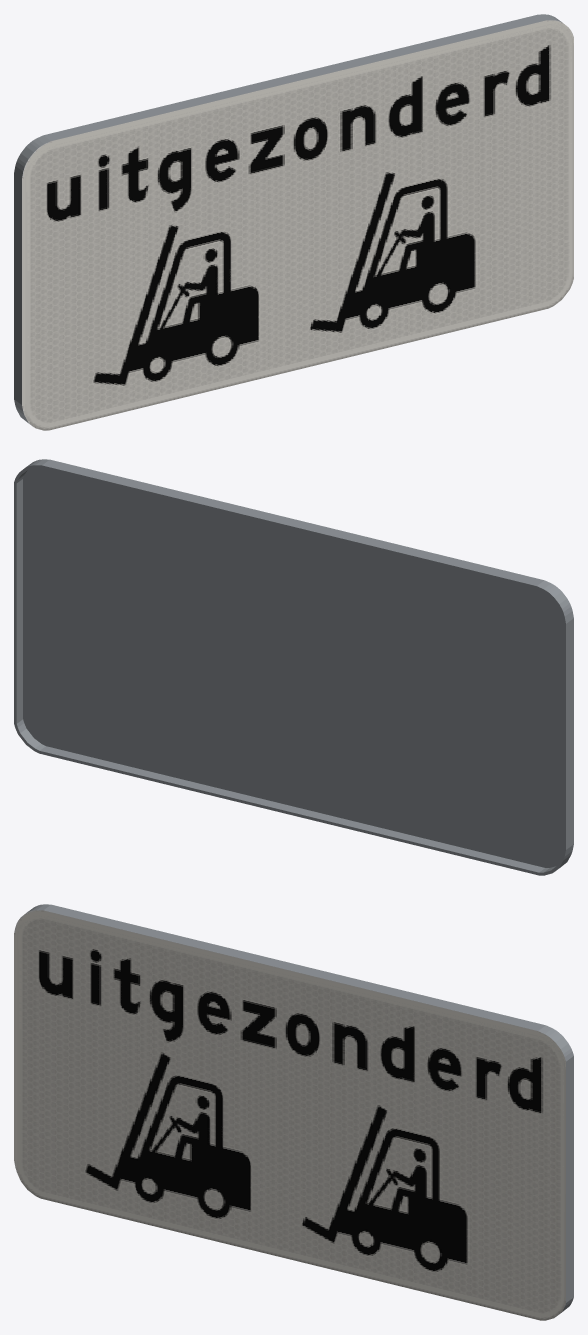
3 views of the same model, one above another, from view 1: azimuth 30°, elevation 25°; view 2: azimuth 150°, elevation 25°; view 3: azimuth 330°, elevation 25° (orthographic).
Parts seen in each view (by area): view 1: cat_0f9d58e4e498a3bd; view 2: cat_0f9d58e4e498a3bd; view 3: cat_0f9d58e4e498a3bd.
Boxes of the visible parts, x1=… form: cat_0f9d58e4e498a3bd: x1=14, y1=14, x2=573, y2=430; cat_0f9d58e4e498a3bd: x1=14, y1=459, x2=573, y2=875; cat_0f9d58e4e498a3bd: x1=14, y1=904, x2=573, y2=1320.
Bounding box in the file's own units: 0.6 × 0.015 × 0.3.
Materials: 2 (1 with a texture image).
